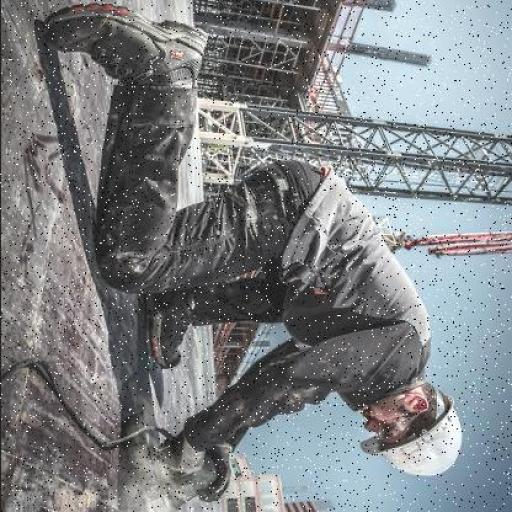person: (30, 4, 464, 484)
safety_shoe: (47, 10, 204, 81), (151, 287, 191, 369)
